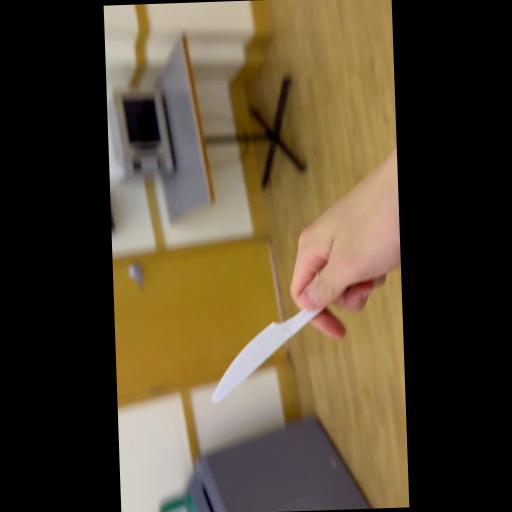utensil: (152, 262, 346, 430)
